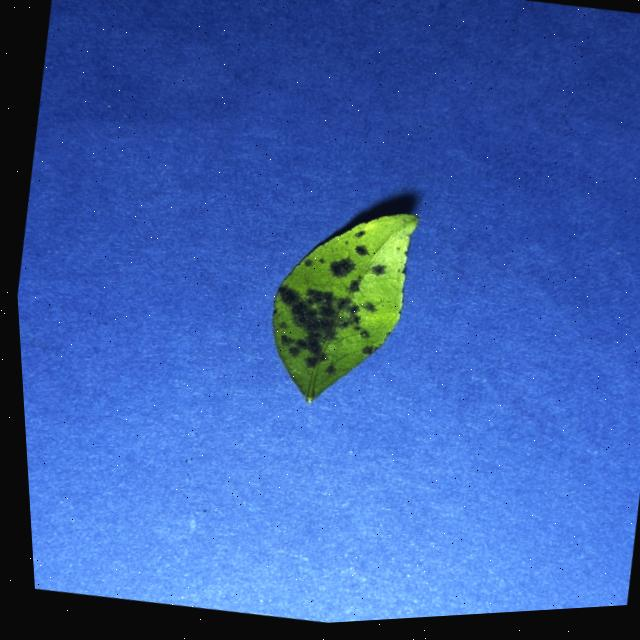sooty_mold: (273, 214, 418, 402)
